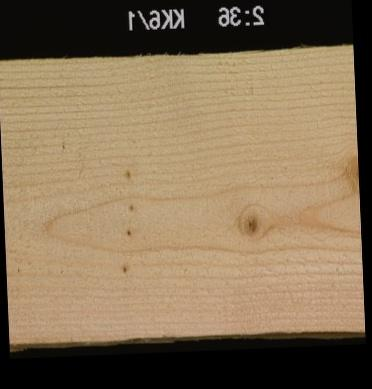small_knot: (115, 223, 135, 241), (112, 257, 129, 278), (118, 163, 134, 180), (121, 196, 136, 214)
sound_knot: (229, 201, 270, 241), (343, 145, 356, 189)
